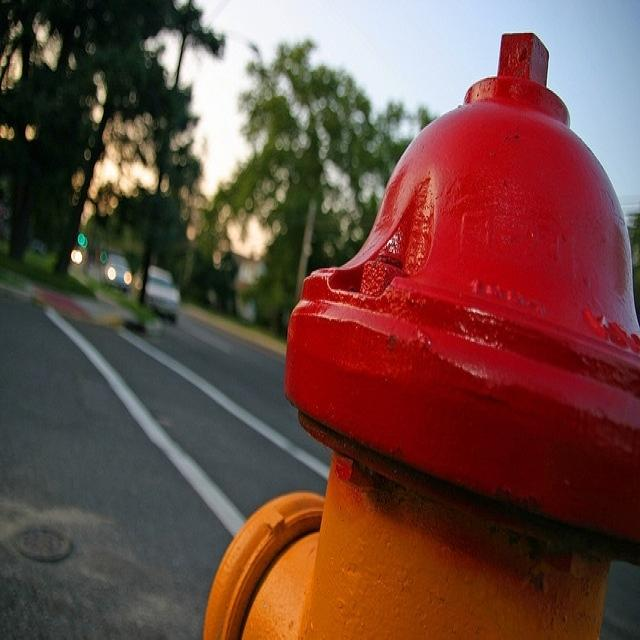fire_hydrant: (218, 36, 628, 640)
